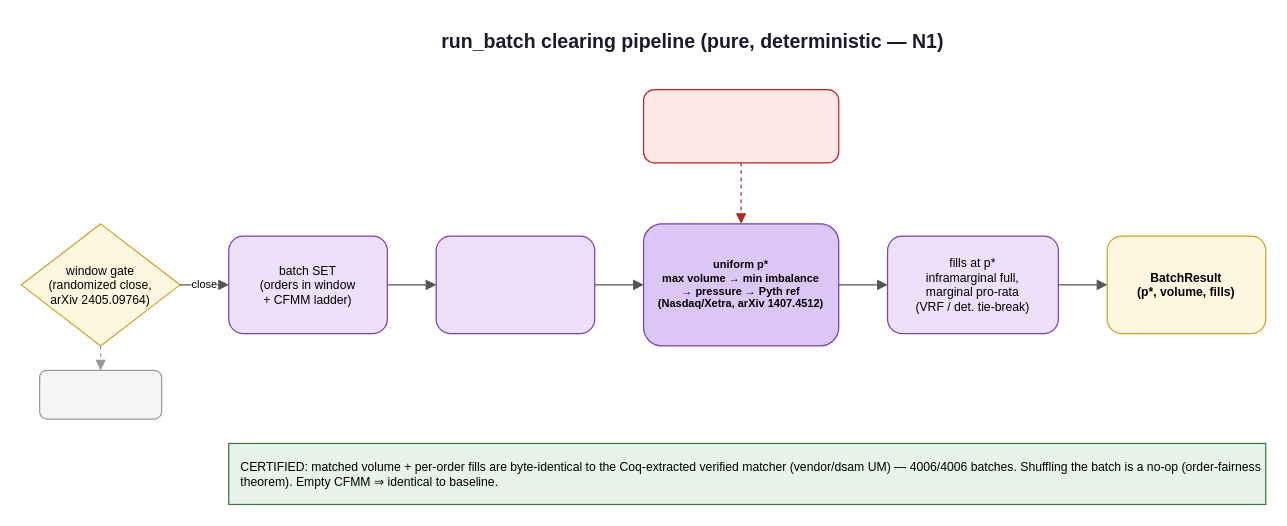
Some shapes in this 1287 by 526 pixel diagram are drawn without their labels. The shapes that lost their labels are listed below. From the top down, each one's centre as x and y in pixels, then its label:
At pixel 740 125: "oracle band gate reject p* outside [p_ref±δ], skip on stale feed".
At pixel 515 284: "demand / supply step curves D(p), S(p)".
At pixel 100 394: "FORMING (accumulate, no clear)".
